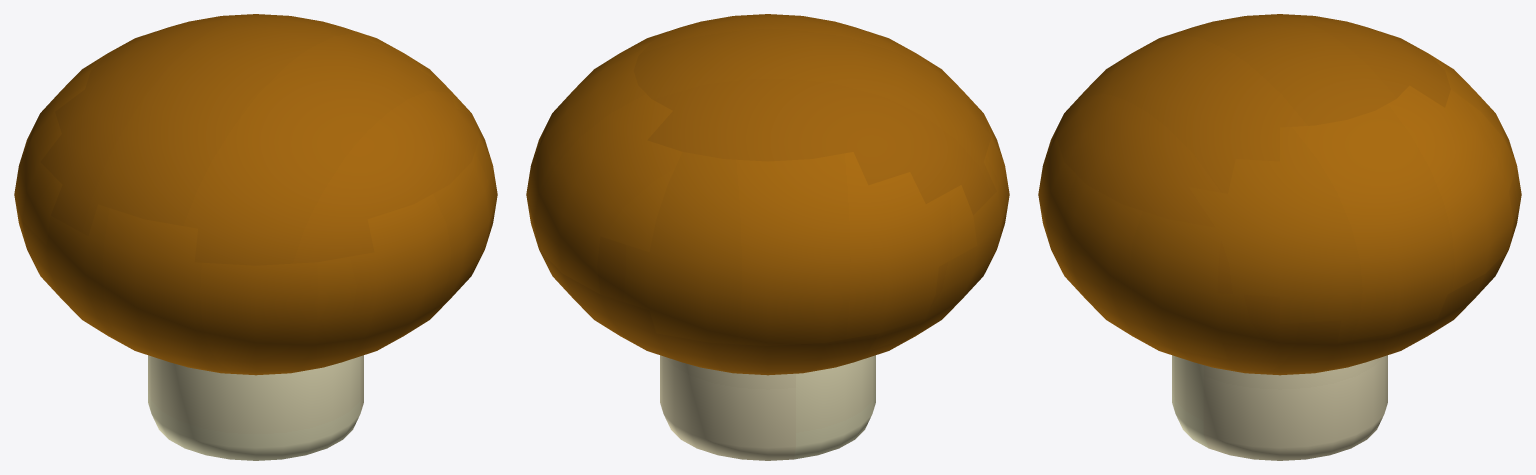
File: mushroom.glb
3 views of the same model, side by side, from view 1: azimuth 30°, elevation 25°; view 2: azimuth 150°, elevation 25°; view 3: azimuth 270°, elevation 25° (orthographic).
Parts seen in each view (by area): view 1: MushroomCap, MushroomStem; view 2: MushroomCap, MushroomStem; view 3: MushroomCap, MushroomStem.
Boxes of the visible parts, x1,y1,x2,y2 form: MushroomCap: (14,14,497,375); MushroomStem: (148,355,363,460); MushroomCap: (526,14,1009,375); MushroomStem: (660,355,875,460); MushroomCap: (1038,14,1521,375); MushroomStem: (1172,355,1387,460).
Bounding box in the file's own units: 0.38 × 0.3292 × 0.38.
2 materials, 2 textured.
